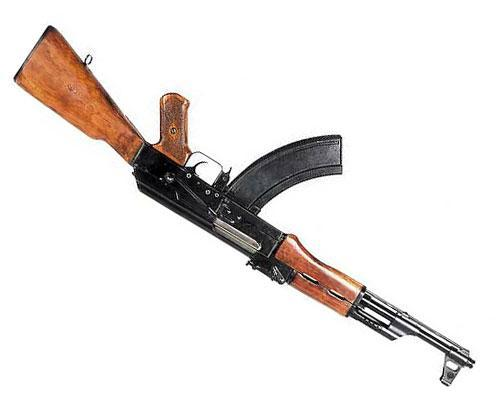larga: (12, 24, 477, 388)
